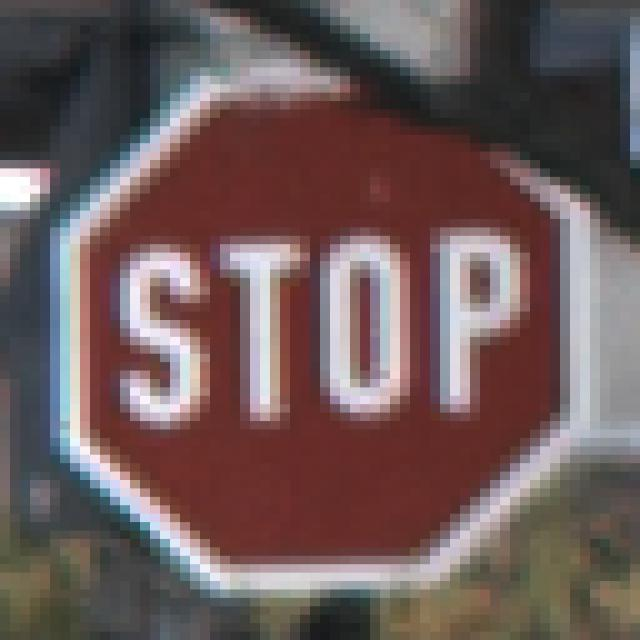STOP: (51, 52, 591, 591)
